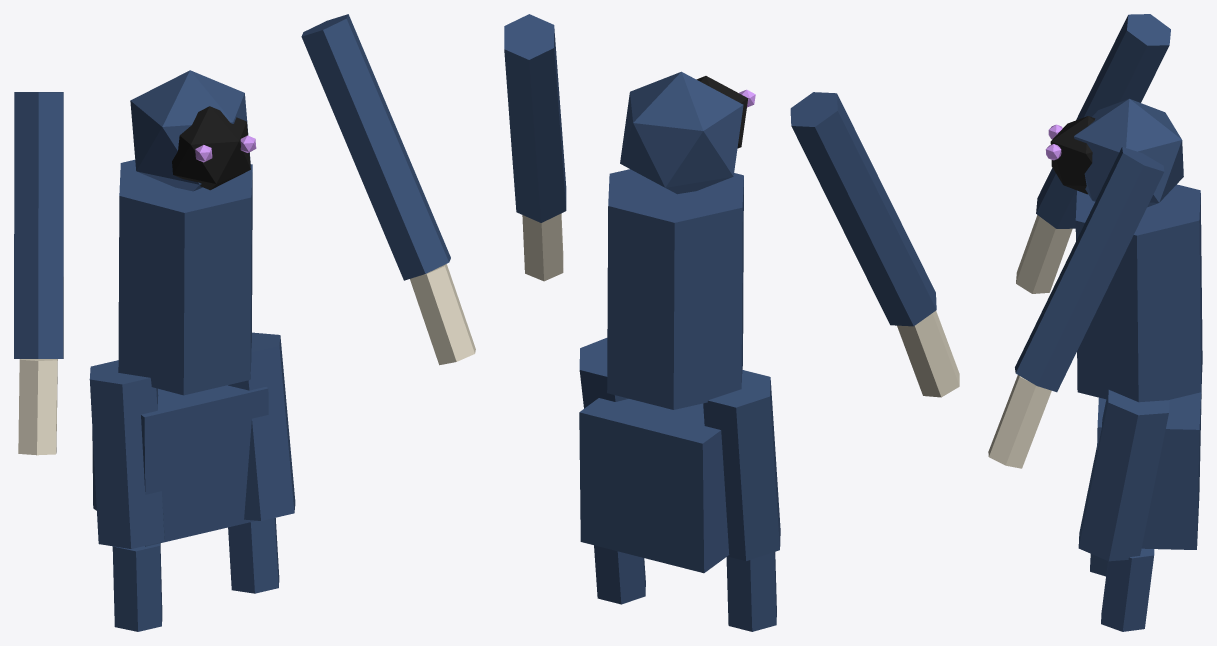
The model's file is npcpose_wraith_idle_08.glb.
3 renders of one model, left to right at view 1: azimuth 30°, elevation 25°; view 2: azimuth 150°, elevation 25°; view 3: azimuth 270°, elevation 25°, orthographic. The views are drawn at different scales.
Visible parts, largest first — view 1: npcpose; view 2: npcpose; view 3: npcpose.
Part boxes in pixels (x1,y1,x2,y2): npcpose: (14,14,475,631); npcpose: (504,14,959,631); npcpose: (988,14,1202,631).
Size of the model in its own units: 0.9379 by 1.11 by 0.4197.
